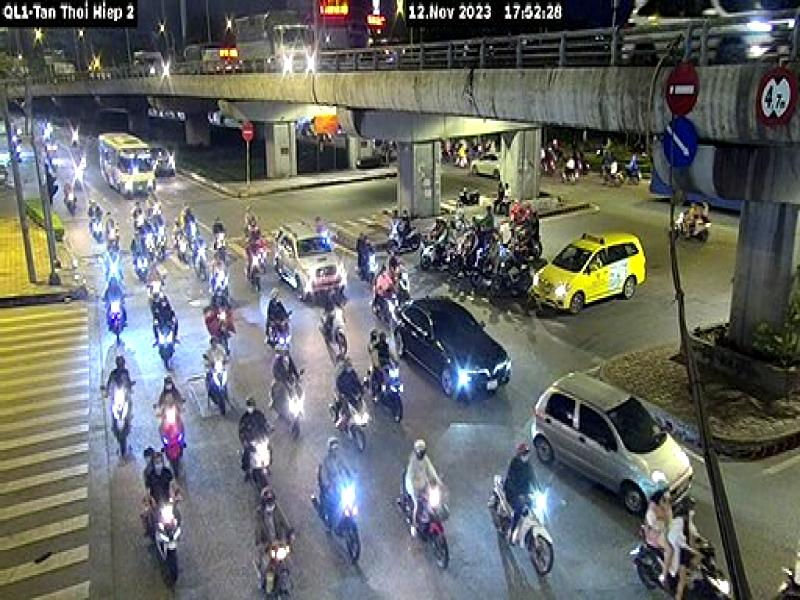bus: (96, 128, 158, 200)
